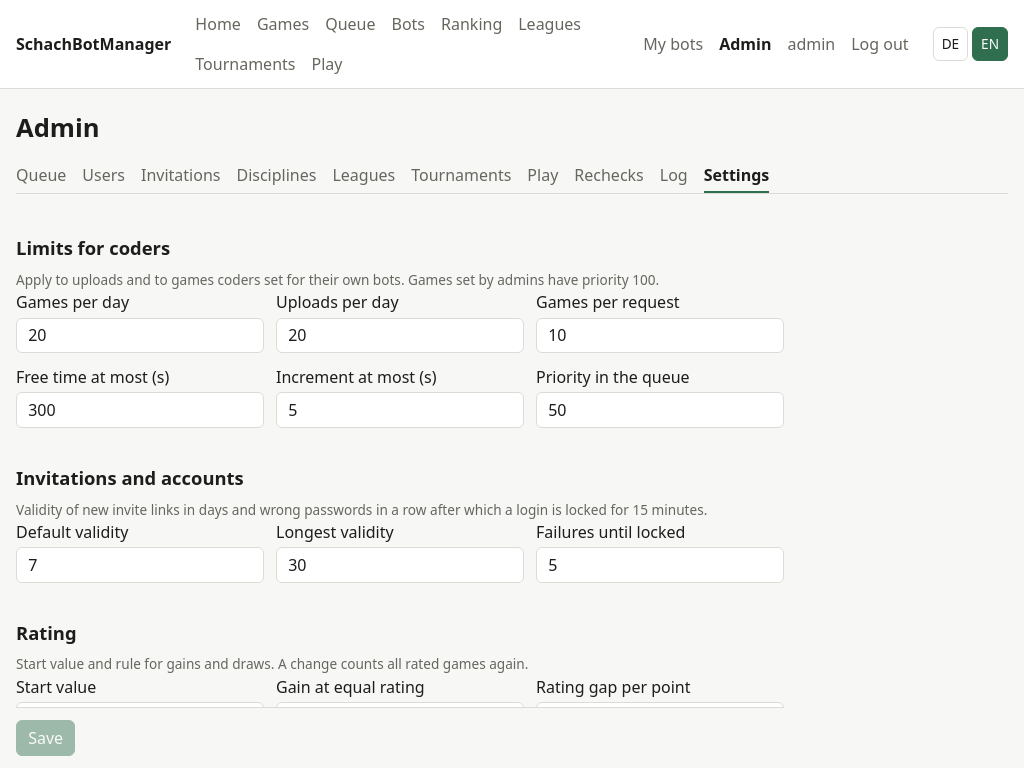
Test: admin settings › saves a group with times typed in seconds
The image size is (1024, 768).
Expected: the heading "Limits for coders" is shown, [16,235,170,260]
Replace the text in the number field labelled "Free time at most (s)" with "600" at [140, 410], box [16,392,264,428]
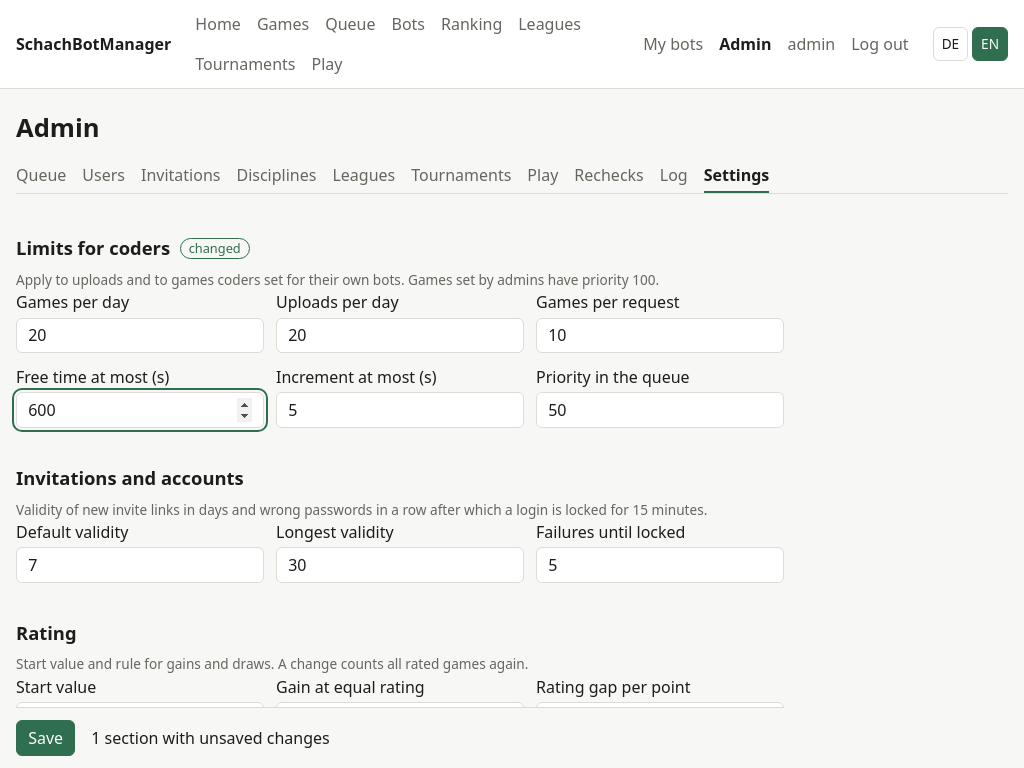
Expected: the text "changed" is shown, [180,238,250,259]
Expected: the text "1 section with unsaved changes" is shown, [91,726,330,750]
Click the button "Save" at [46, 738], box [16,720,75,756]
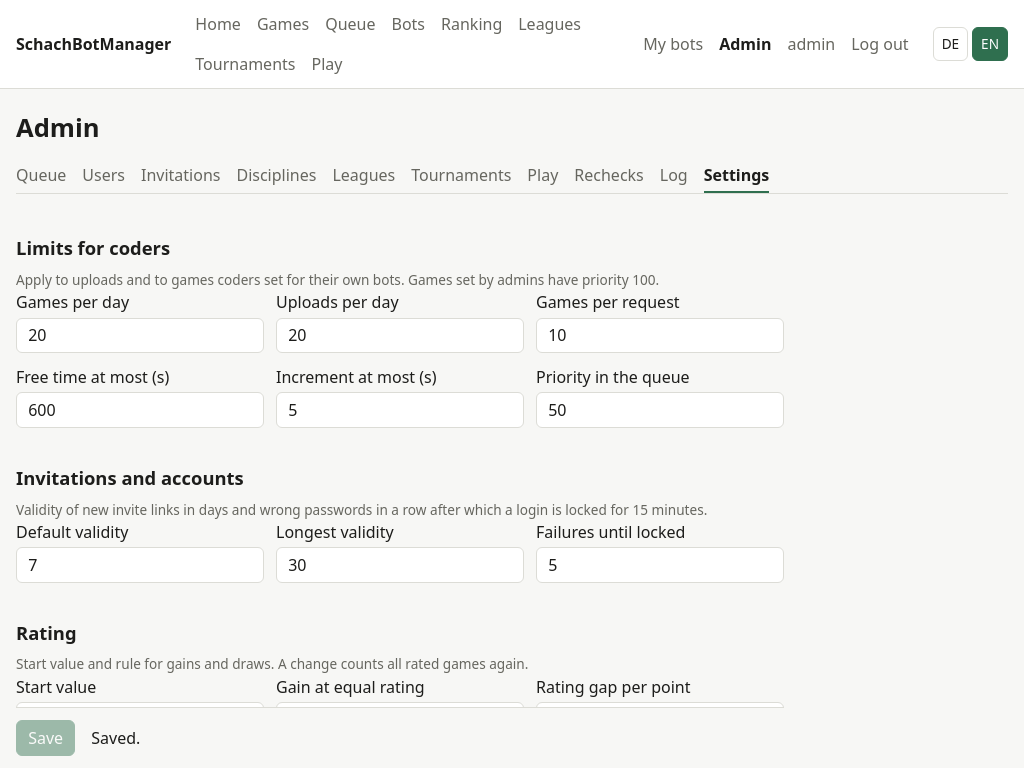
Expected: the text "Saved." is shown, [91,726,140,750]
Expected: the text "changed" is gone
Expected: the button "Save" is disabled, [16,720,75,756]
